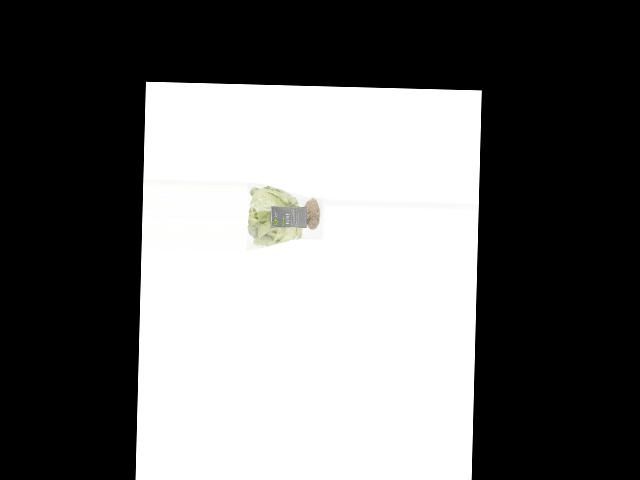lettuce: (246, 183, 325, 250)
